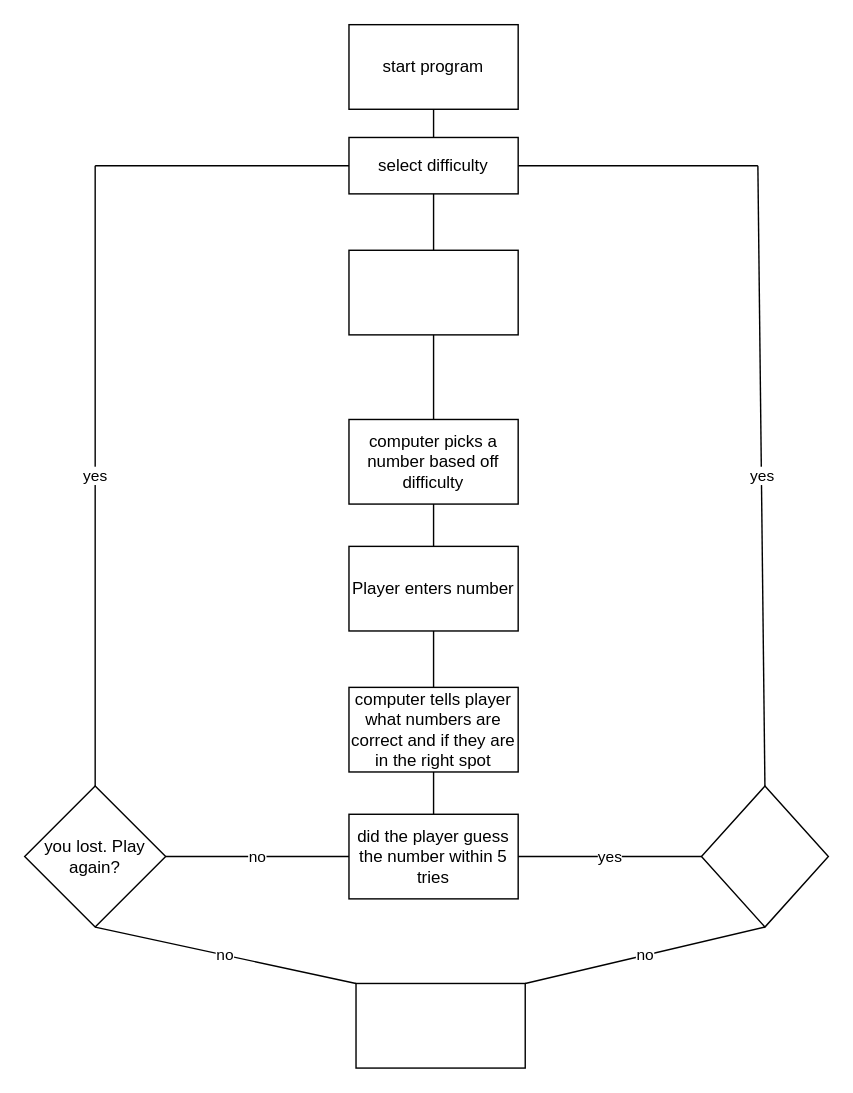
This 853x1093 diagram has some shape labels left out. The shapes that lost their labels are listed below. From the top down, each one's centre as x and y in pixels, then its label:
At pixel 433 292: "start game".
At pixel 764 856: "you win. play again?".
At pixel 440 1025: "exit".
